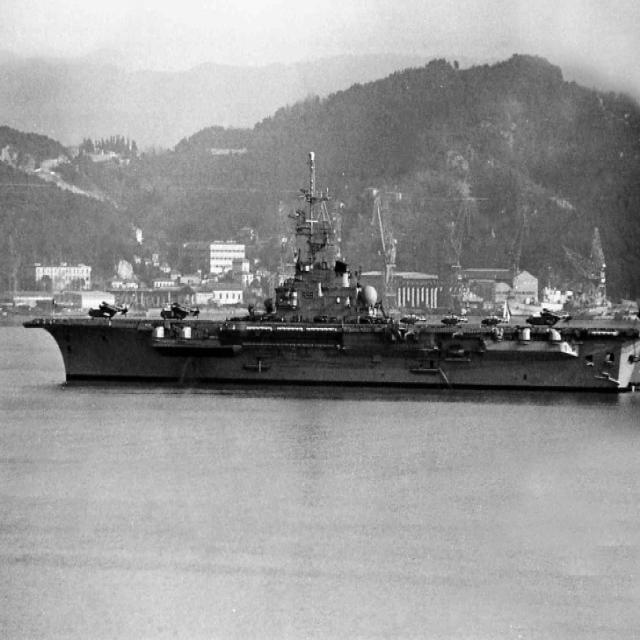Portanaves: (21, 142, 640, 397)
